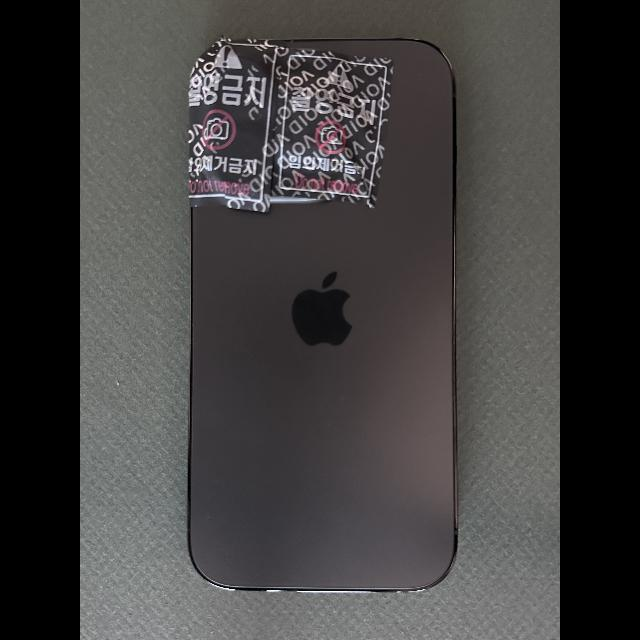phone: (186, 35, 460, 594)
sticker: (270, 47, 395, 209), (189, 33, 286, 214)
